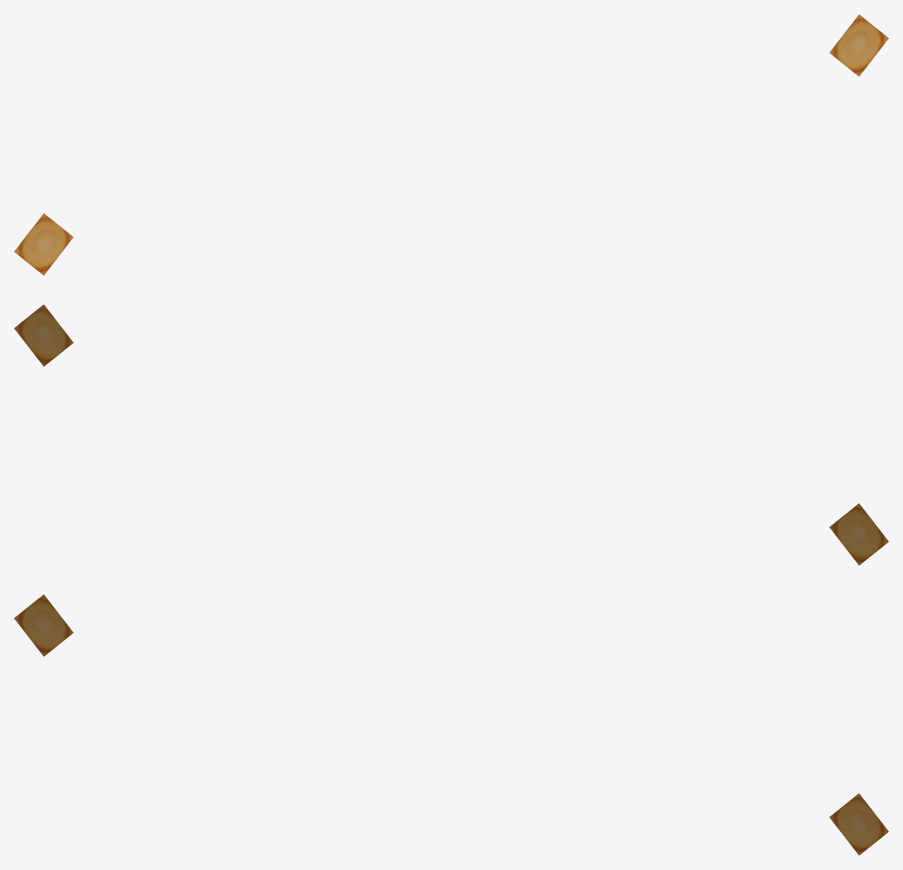
File: ywing_engine_s01_on_l1.fbx
3 views of the same model, one above another, from view 1: azimuth 30°, elevation 25°; view 2: azimuth 150°, elevation 25°; view 3: azimuth 330°, elevation 25° (orthographic).
Parts seen in each view (by area): view 1: mesh_node; view 2: mesh_node; view 3: mesh_node.
Boxes of the visible parts, box(x1,y1,x2,y2) form: mesh_node: box(14, 14, 888, 275); mesh_node: box(14, 304, 888, 565); mesh_node: box(14, 594, 888, 855).
Bounding box in the file's own units: 10.26 × 0.7003 × 4.77e-07.
1 material, 1 textured.
